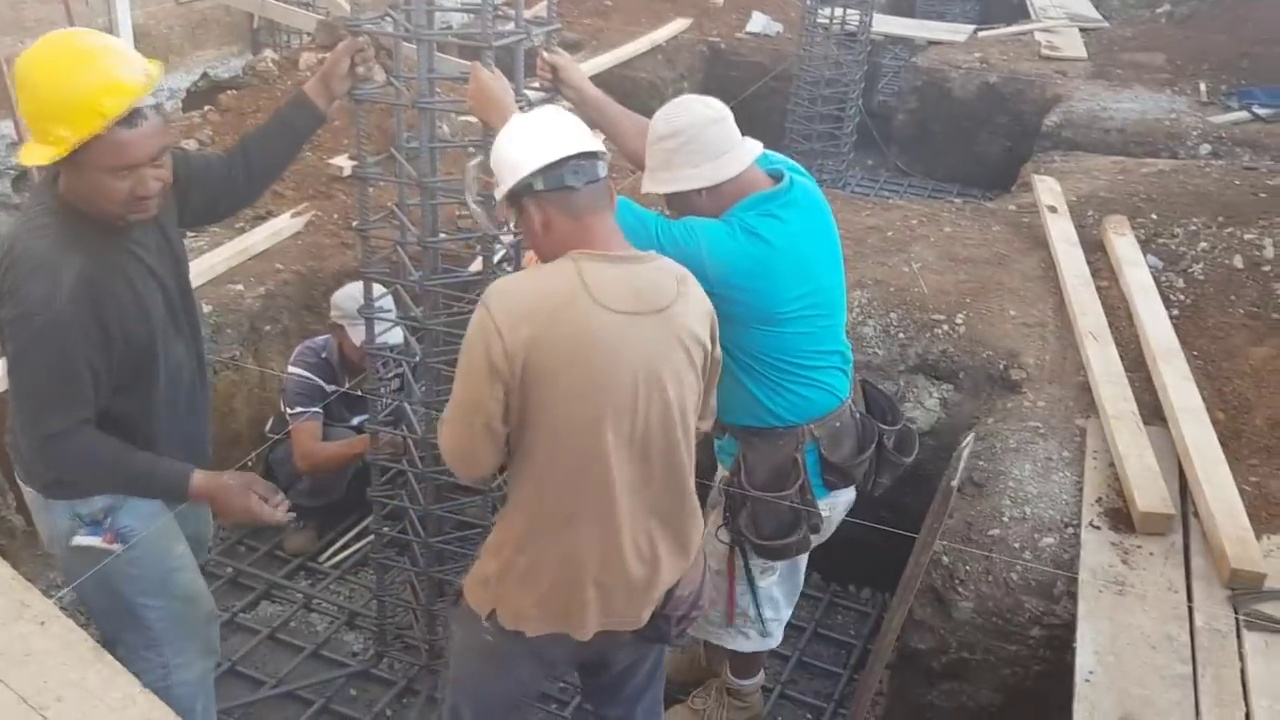helmet: (6, 17, 164, 172), (484, 102, 621, 222)
helmet-off: (631, 92, 781, 225), (321, 279, 408, 379)
helmet-on: (5, 17, 171, 241), (482, 102, 626, 274)
person: (1, 22, 369, 719), (502, 55, 857, 715), (436, 101, 728, 717), (269, 275, 414, 556)
